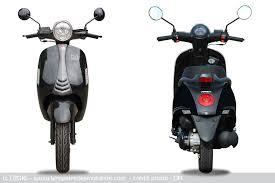motorcycle: (147, 3, 250, 173), (15, 3, 106, 173)
